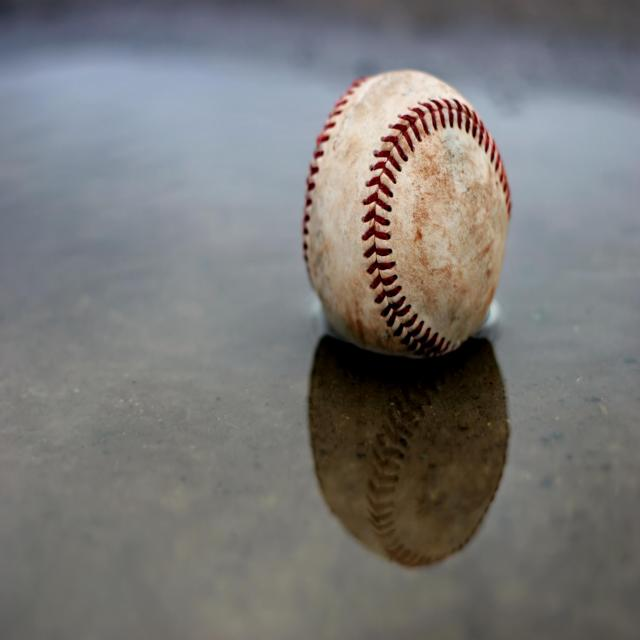baseball: (301, 66, 510, 350)
